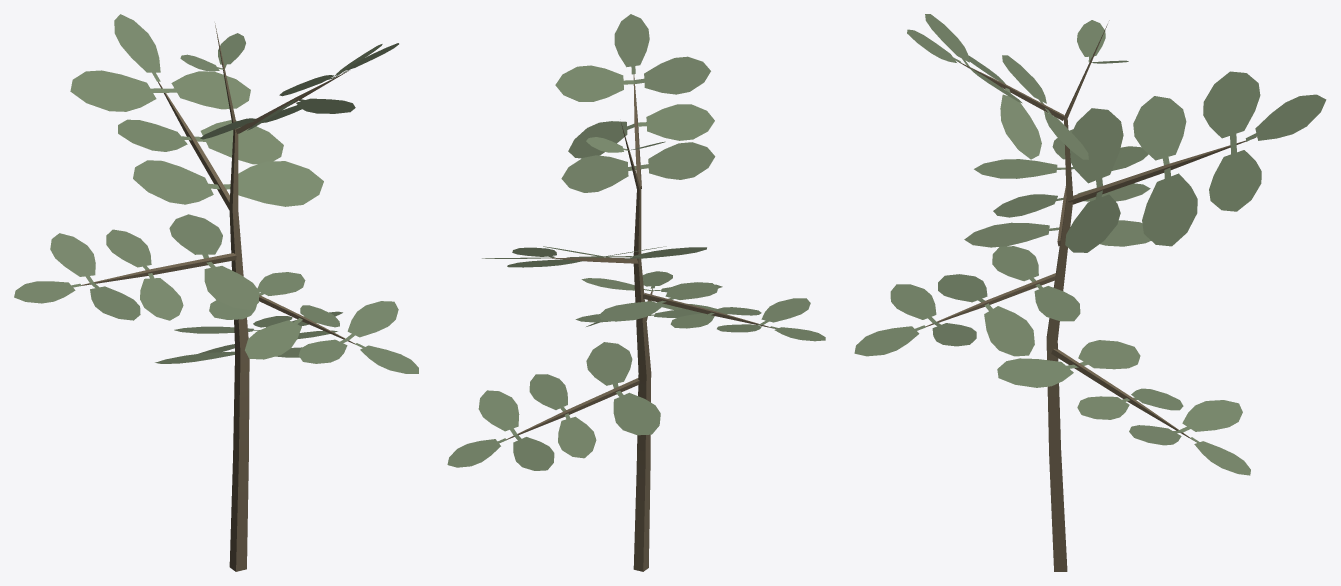
File: maple_sappling.fbx
3 views of the same model, side by side, from view 1: azimuth 30°, elevation 25°; view 2: azimuth 150°, elevation 25°; view 3: azimuth 270°, elevation 25° (orthographic). The views are drawn at different scales.
Visible parts, largest first — view 1: pCube13, pPlane4 (×3), pPlane6 (×3), pPlane5 (×3), pPlane3 (×3), pPlane2 (×3), pPlane7 (×4), pPlane1 (×3), pCube14 (×2), pPlane8; view 2: pPlane5 (×4), pPlane4 (×3), pCube13, pPlane6 (×3), pPlane3 (×3), pPlane2 (×2), pPlane7 (×2), pPlane1 (×2), pCube14 (×2); view 3: pPlane5 (×5), pPlane7 (×5), pPlane4 (×5), pPlane6 (×4), pPlane2 (×4), pPlane3 (×3), pCube13, pPlane1 (×3), pCube14 (×3), pPlane9.
Boxes of the visible parts, <box> form: pCube13: <box>215,23,249,571</box>; pPlane4 (×3): <box>169,161,323,319</box>; pPlane6 (×3): <box>70,70,398,339</box>; pPlane5 (×3): <box>133,160,305,309</box>; pPlane3 (×3): <box>106,120,302,359</box>; pPlane2 (×3): <box>50,71,348,363</box>; pPlane7 (×4): <box>118,98,355,327</box>; pPlane1 (×3): <box>14,14,418,373</box>; pCube14 (×2): <box>81,81,236,285</box>; pPlane8: <box>218,33,245,69</box>; pPlane5 (×4): <box>561,155,718,435</box>; pPlane4 (×3): <box>586,142,715,388</box>; pCube13: <box>621,122,651,571</box>; pPlane6 (×3): <box>513,65,810,470</box>; pPlane3 (×3): <box>529,104,714,411</box>; pPlane2 (×2): <box>478,56,710,435</box>; pPlane7 (×2): <box>558,121,634,458</box>; pPlane1 (×2): <box>447,14,649,467</box>; pCube14 (×2): <box>506,293,775,439</box>; pPlane5 (×5): <box>964,108,1140,369</box>; pPlane7 (×5): <box>984,88,1186,410</box>; pPlane4 (×5): <box>992,55,1150,387</box>; pPlane6 (×4): <box>932,71,1260,432</box>; pPlane2 (×4): <box>890,14,1261,445</box>; pPlane3 (×3): <box>938,167,1197,419</box>; pCube13: <box>1046,20,1109,571</box>; pPlane1 (×3): <box>854,94,1326,475</box>; pCube14 (×3): <box>926,137,1256,439</box>; pPlane9: <box>1077,20,1105,62</box>.
Size of the model in its own units: 0.6692 by 0.994 by 0.7341.
